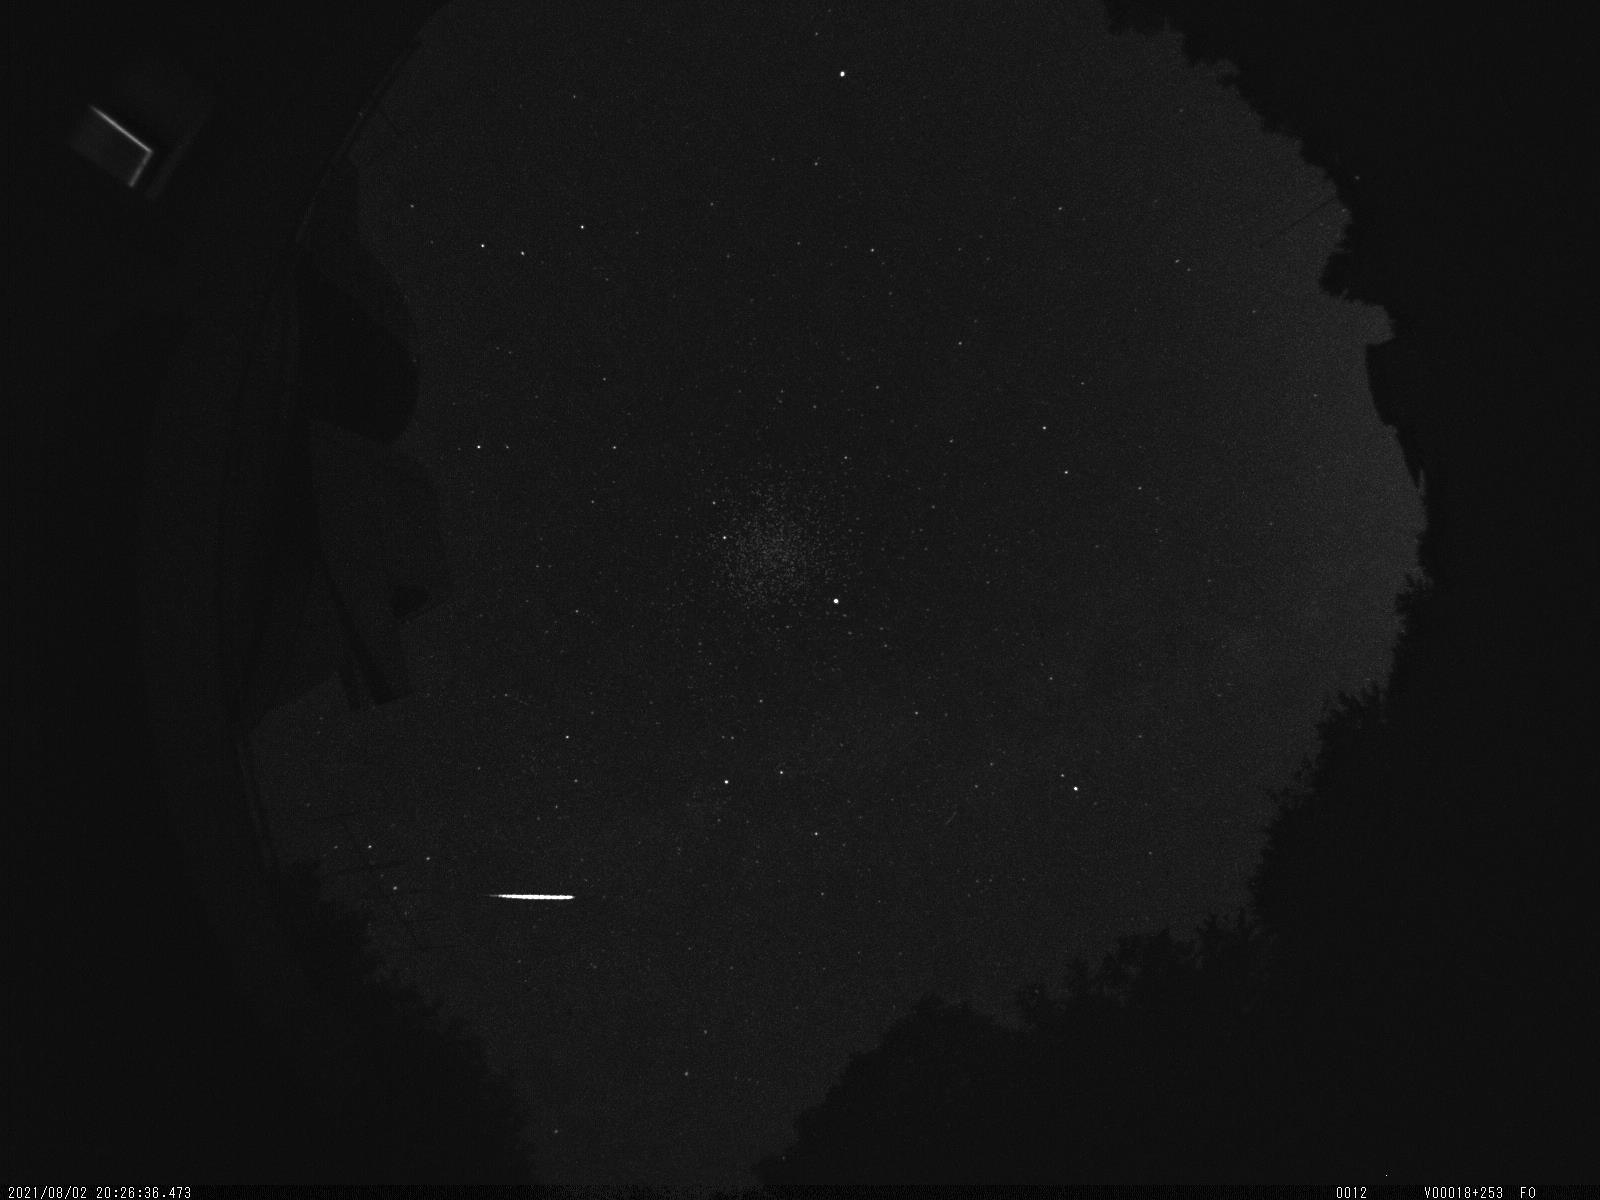Meteor: (484, 885, 582, 910)
